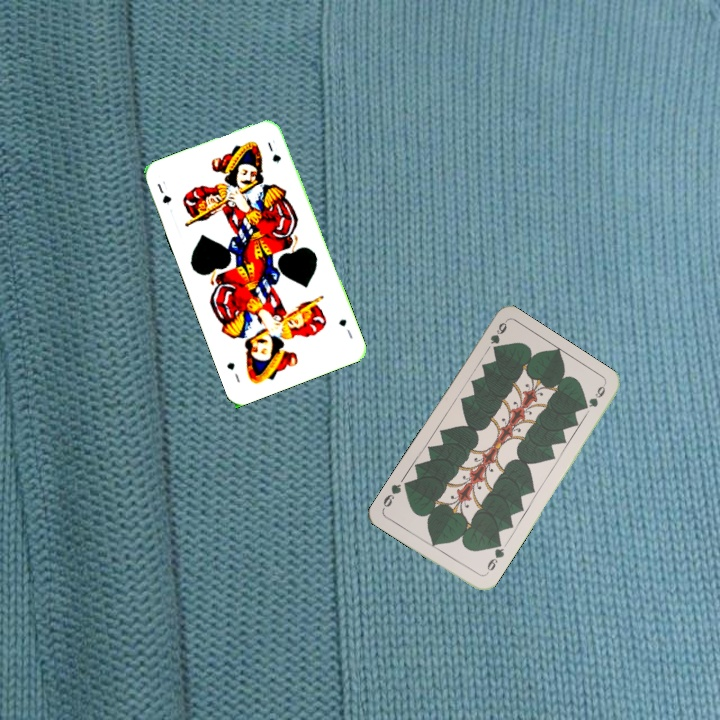G9: (481, 540, 507, 578), (486, 318, 510, 355)
GU: (153, 177, 174, 207), (335, 315, 355, 341)
